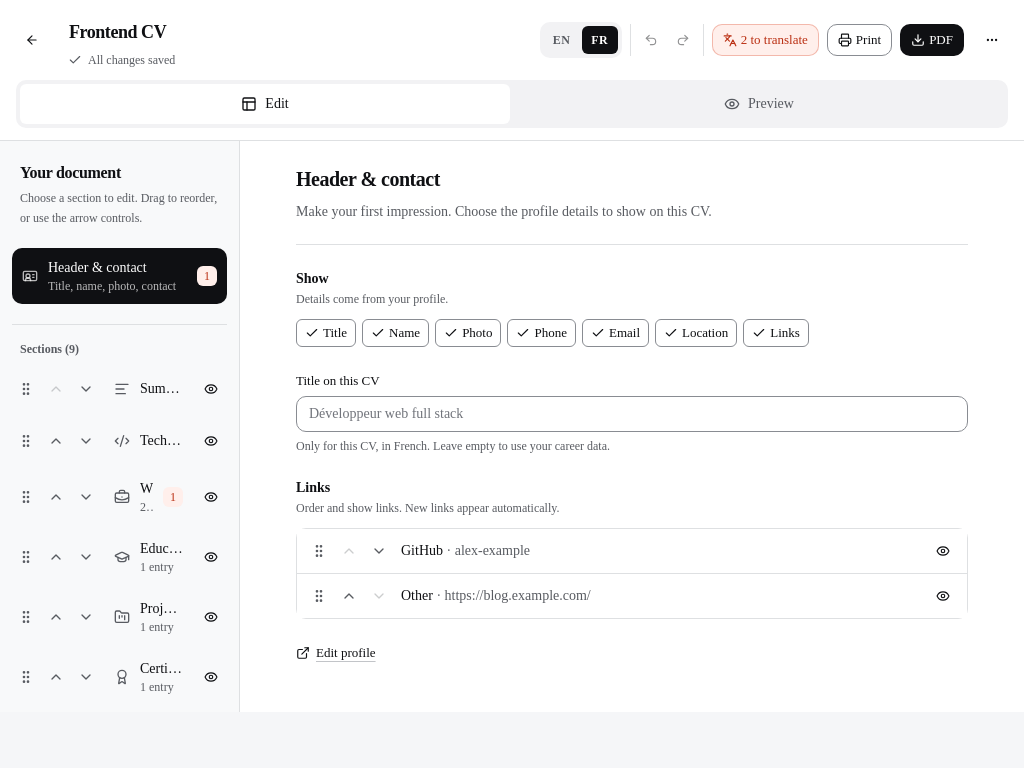
Scenario: CV builder › blocks printing and PDF export while translations are missing
Click the button with aria-label "Download PDF". click: coordinates (932, 40)
box: [900,24,964,56]
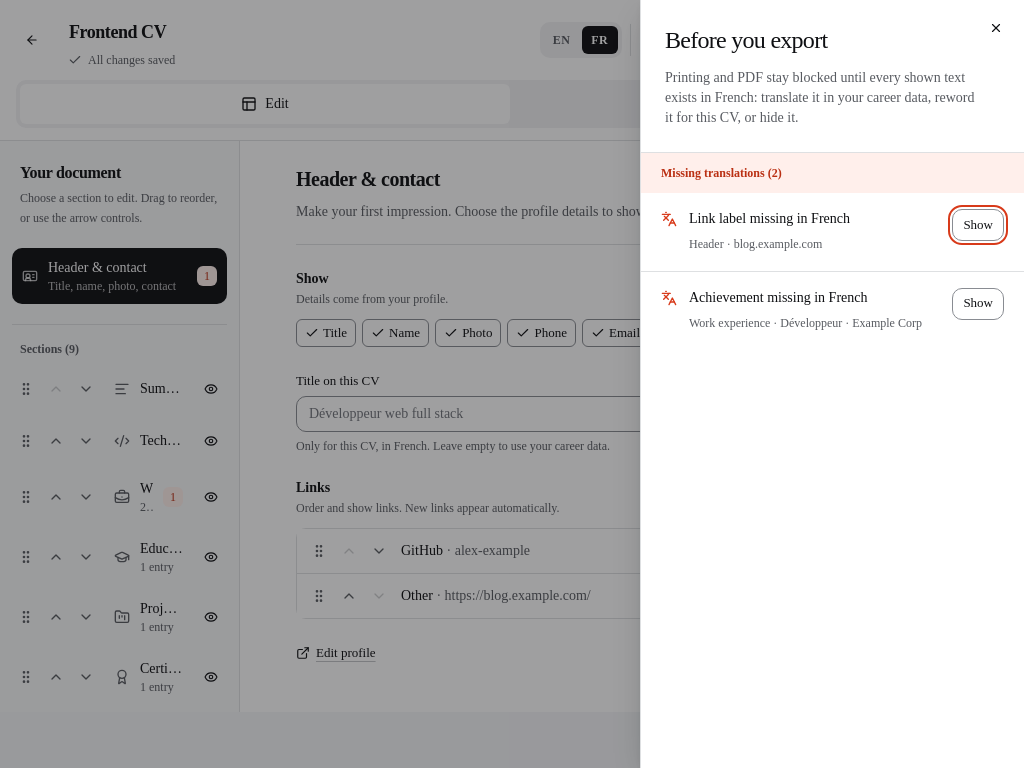
Result: the dialog "Before you export" is shown at [640,0,1023,767]
